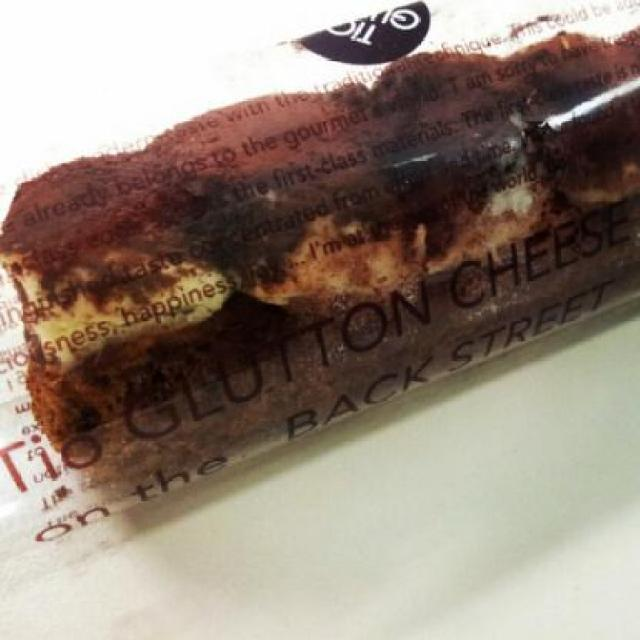Tiramisu: (8, 102, 640, 413)
